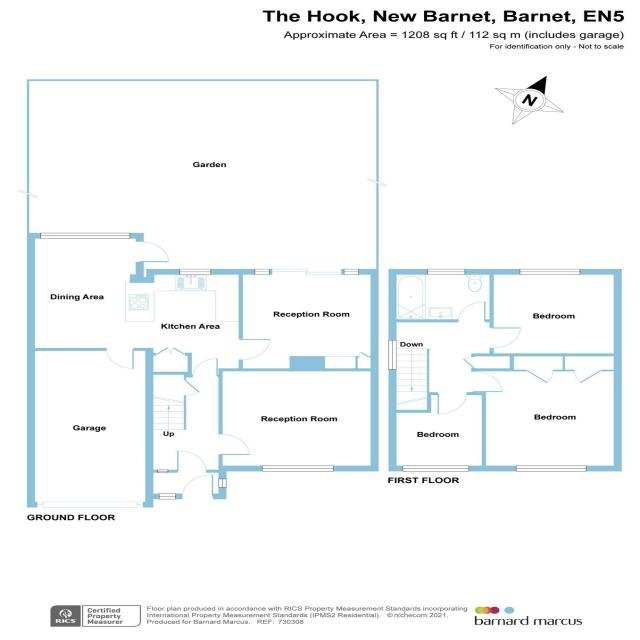DOOR: (182, 474, 214, 499), (436, 392, 468, 415), (239, 338, 271, 361), (470, 371, 503, 393), (218, 434, 251, 456), (176, 450, 207, 473), (489, 327, 521, 349), (457, 301, 486, 322), (192, 358, 218, 378)
ROOM: (27, 233, 243, 378), (470, 353, 622, 472), (218, 368, 379, 473), (238, 269, 379, 372), (489, 269, 622, 357), (388, 392, 486, 472)
SLIDING DOOR: (136, 239, 174, 264), (101, 347, 137, 371)
WINDOW: (40, 232, 131, 239), (515, 465, 588, 472), (261, 465, 334, 472), (401, 465, 470, 472), (519, 269, 581, 275), (388, 340, 397, 370), (427, 269, 466, 275), (179, 269, 211, 275), (158, 493, 176, 500), (253, 269, 270, 275), (343, 269, 359, 275), (218, 478, 227, 488), (157, 469, 169, 473)
